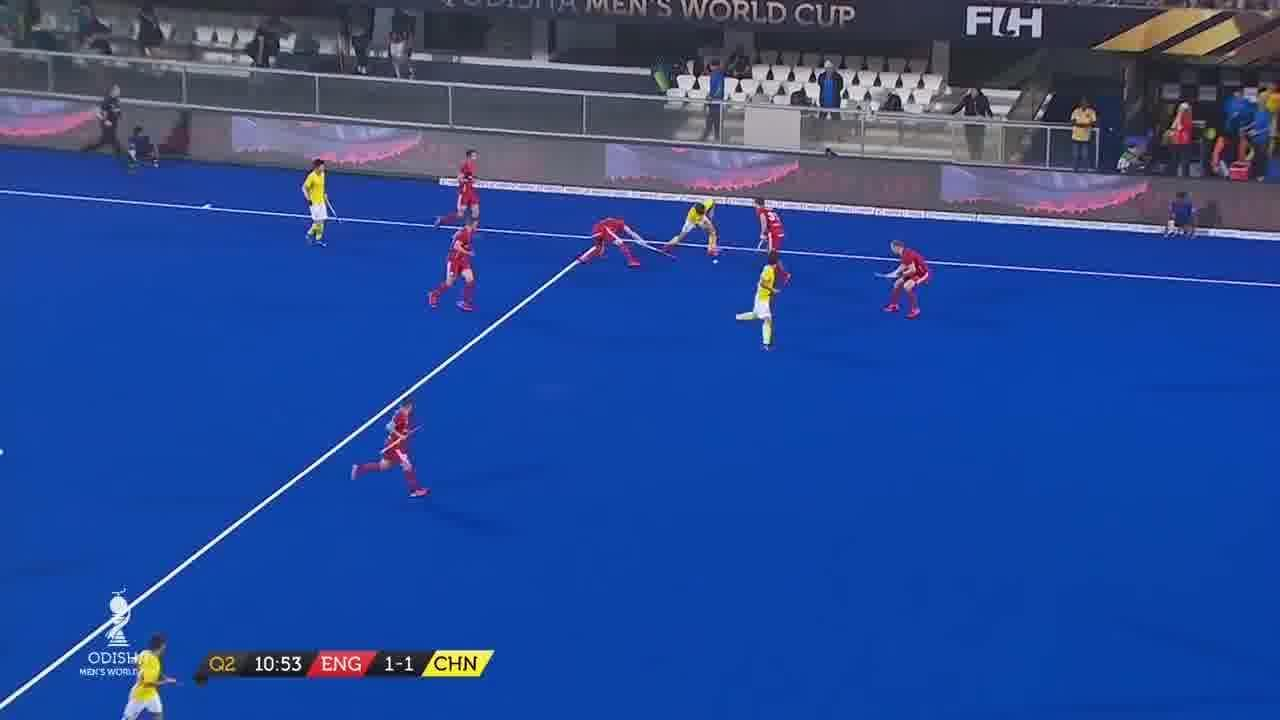ball: (712, 257, 719, 265)
